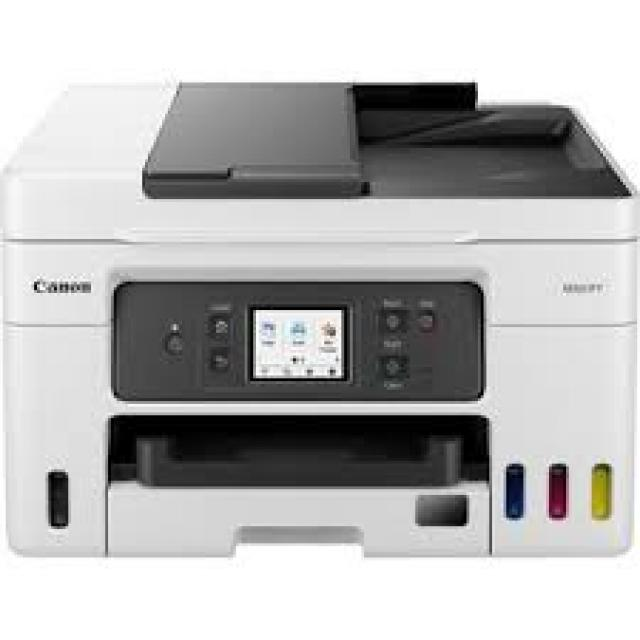printer: (0, 56, 640, 620)
